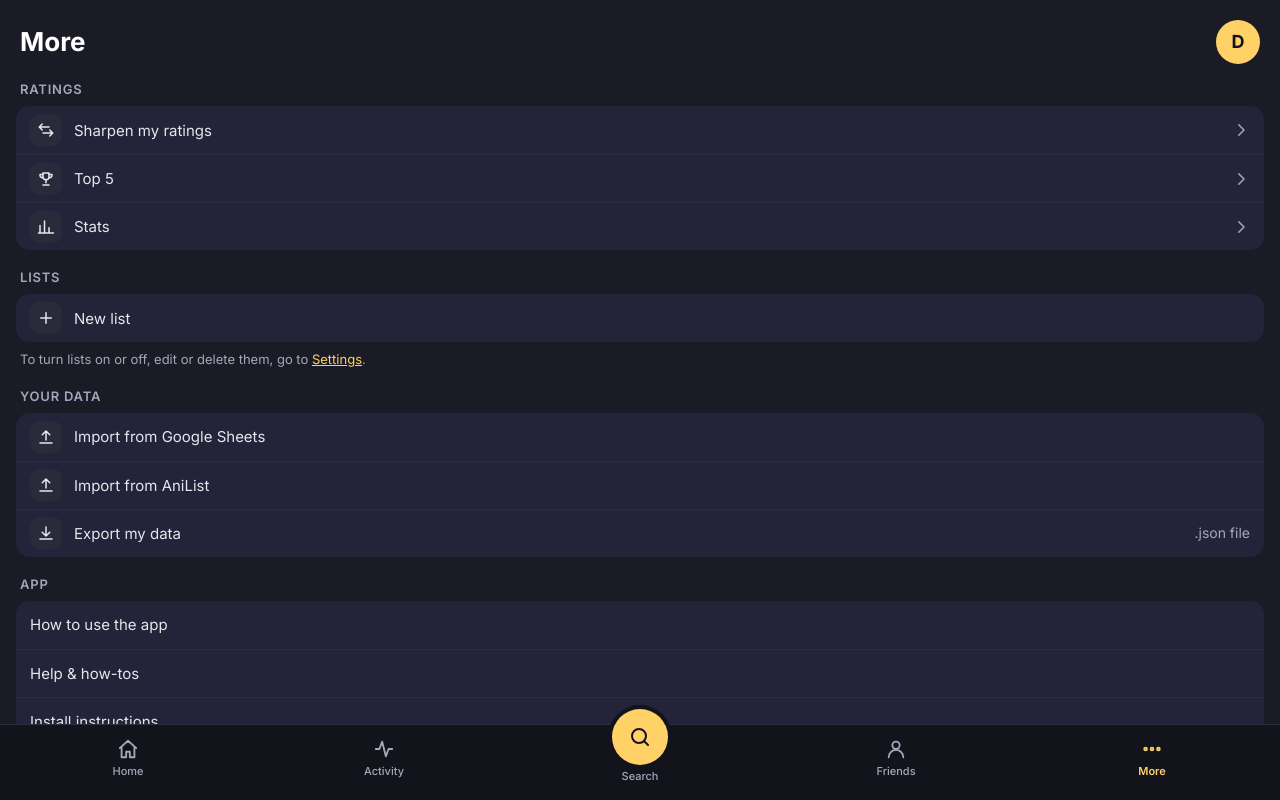
Scenario: More (phone) › New list from More opens the form
The image size is (1280, 800).
Step 1. Click the link "New list" → {"x": 80, "y": 318}, box [30,302,130,334]
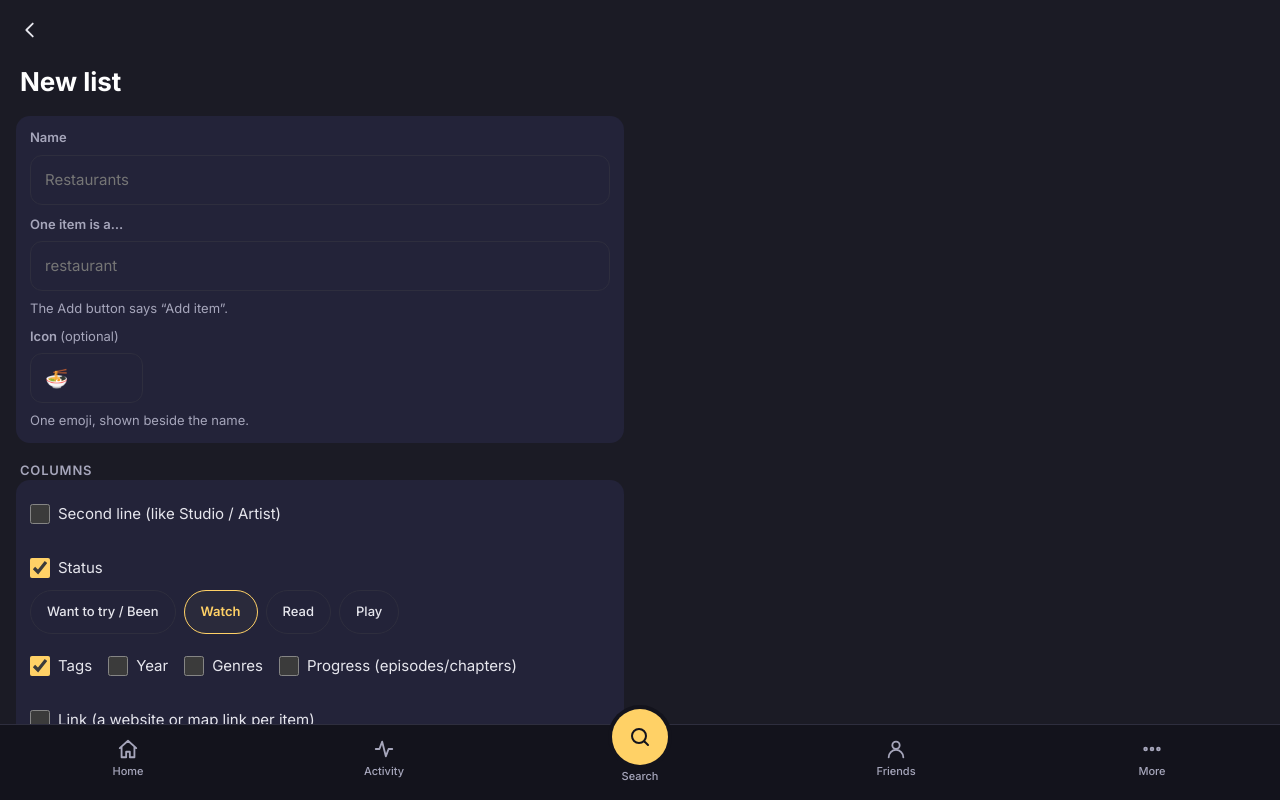
Expected: the heading "New list" is shown, [20,64,121,100]
